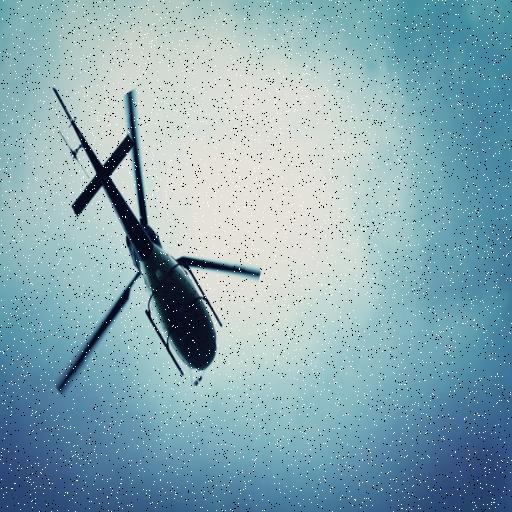helicopter: (49, 86, 262, 398)
